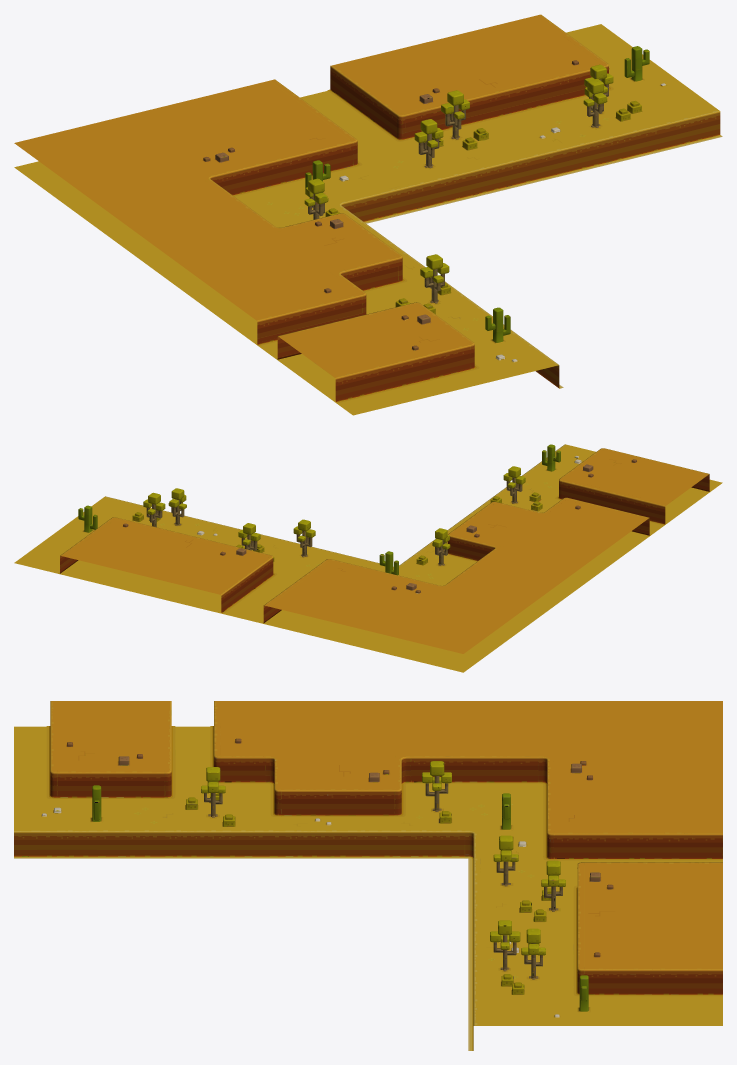
Rendered from C_mountain1_out_RD.fbx.
3 renders of one model, top to bottom at view 1: azimuth 30°, elevation 25°; view 2: azimuth 150°, elevation 25°; view 3: azimuth 270°, elevation 25°, orthographic. The views are drawn at different scales.
Parts seen in each view (by area): view 1: C_mountain1_out_RD; view 2: C_mountain1_out_RD; view 3: C_mountain1_out_RD.
Boxes of the visible parts, <box> form: C_mountain1_out_RD: <box>14,14,722,415</box>; C_mountain1_out_RD: <box>14,444,722,672</box>; C_mountain1_out_RD: <box>14,701,722,1050</box>.
Size of the model in its own units: 117 by 13.14 by 117.
